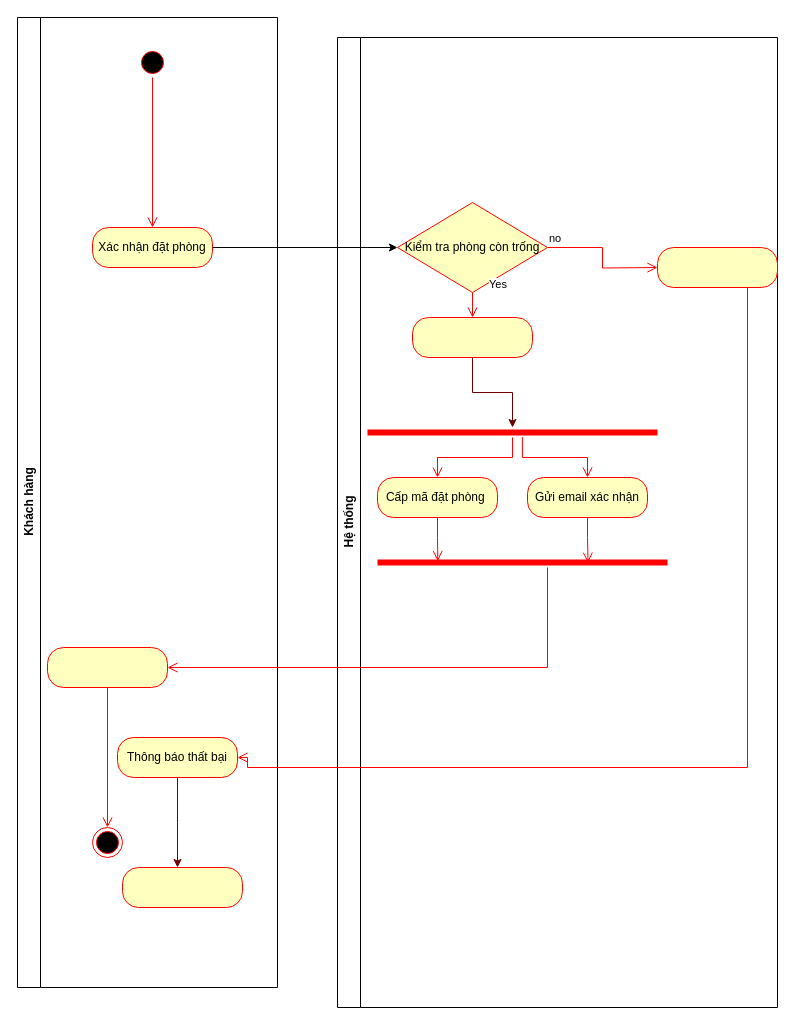
The diagram is 795 pixels wide and 1025 high, and some of its shapes have lost their labels. The shapes that lost their labels are listed below. From the top down, each one's box as (x1, y1, x2, y2) in pixels, then its label:
(656, 246, 778, 288): Hủy yêu cầu đặt phòng
(412, 316, 532, 358): Tạo đơn đặt phòng
(46, 646, 168, 688): Hiển thị thành công
(122, 866, 242, 908): Quay lại bước 3, bước chọn loại phòng
